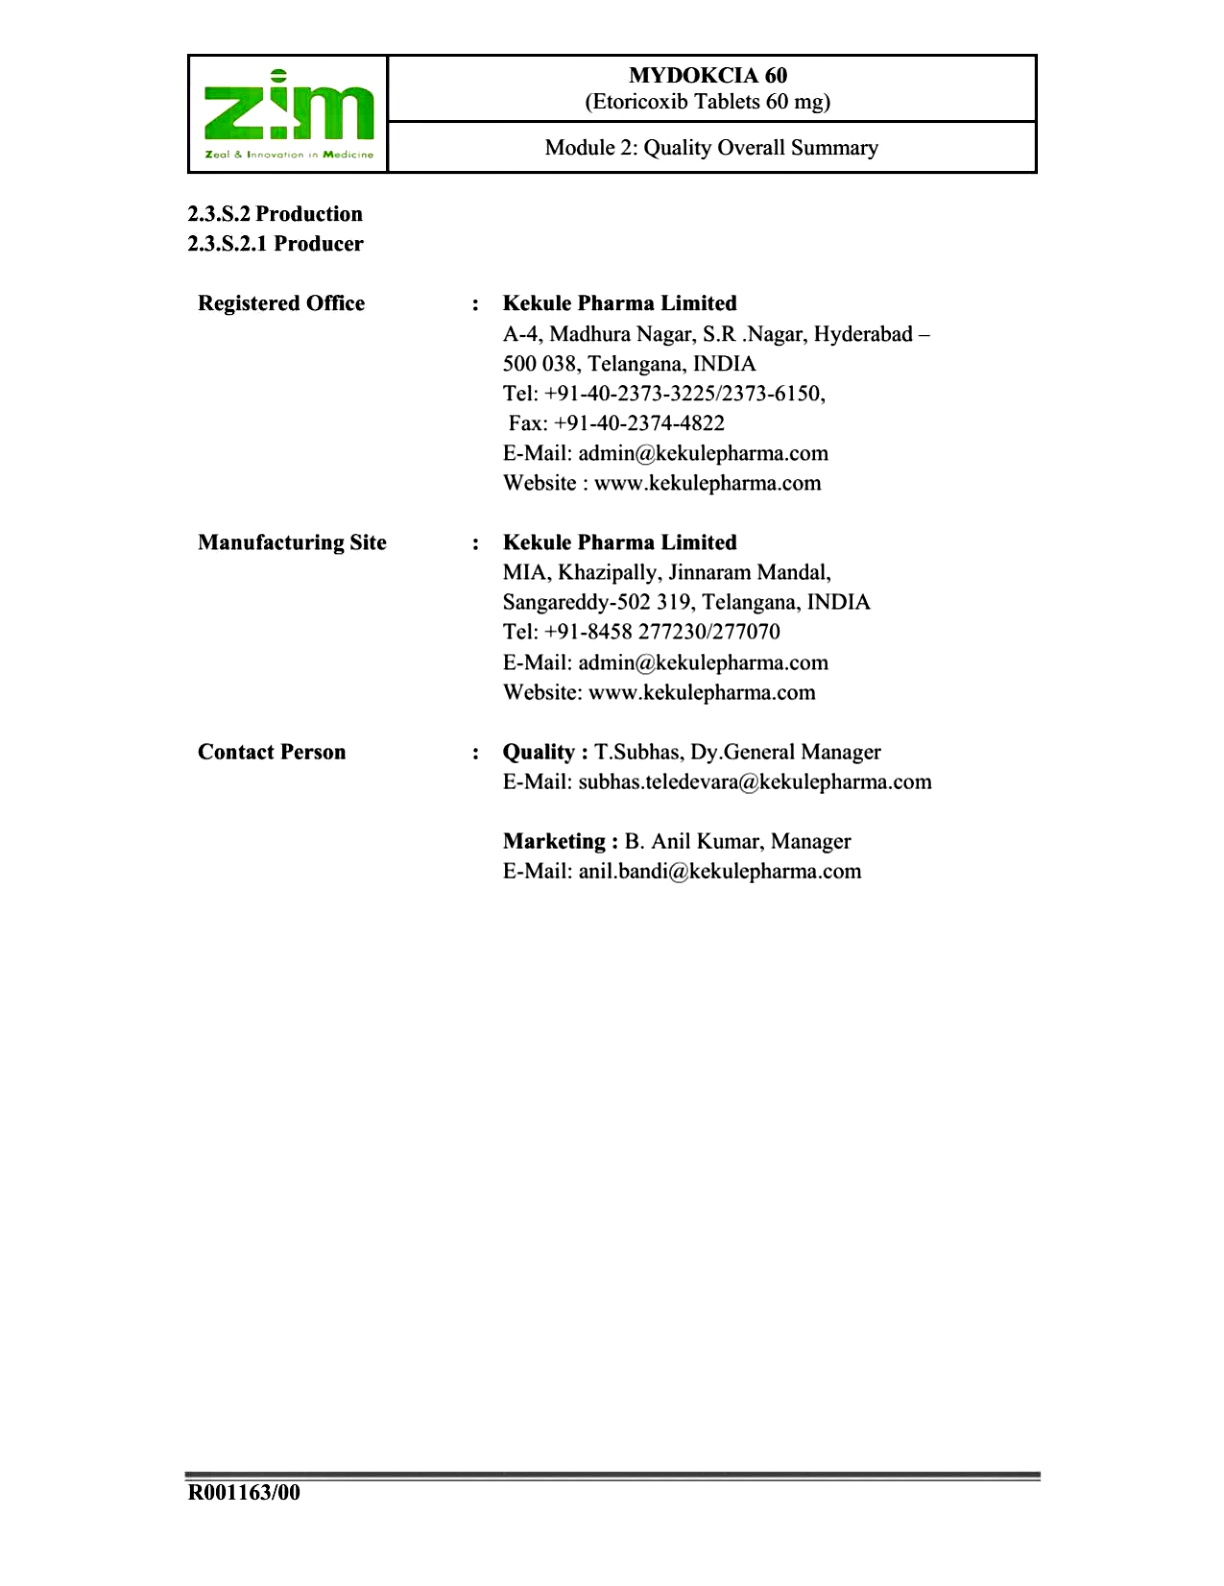full_lined: (175, 42, 1065, 189)
nolines: (184, 271, 1059, 946)
